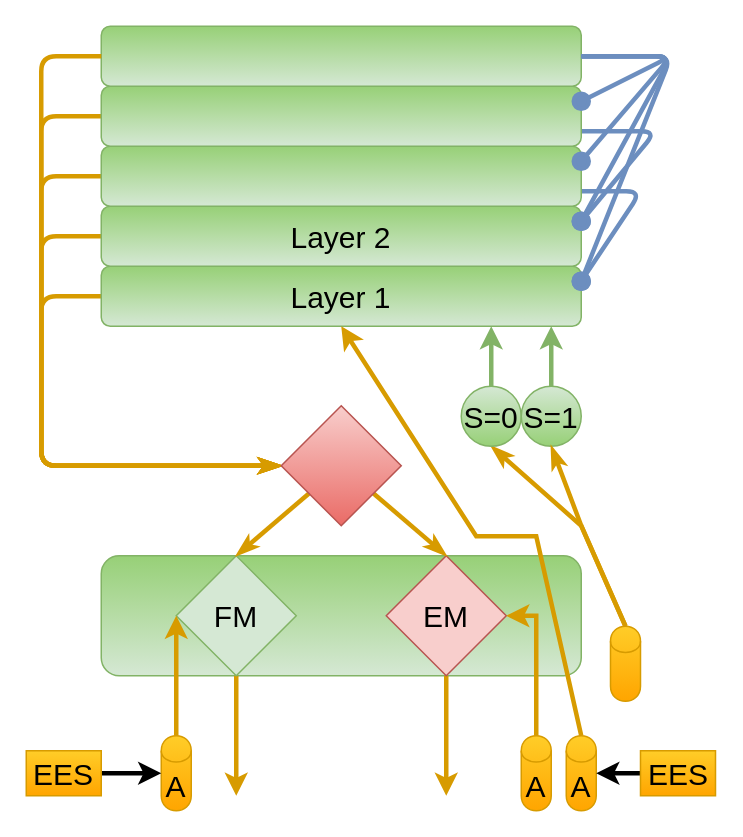
Image size: 743x837. Some labels were removed from this diagram. Here are the shapes that lost their labels. From the top down, the box of each, then its label:
(100, 25, 581, 86): Layer 5
(100, 85, 581, 146): Layer 4
(100, 145, 581, 206): Layer 3
(280, 404, 401, 526): IP
(100, 554, 581, 676): RA
(609, 625, 640, 701): SA
